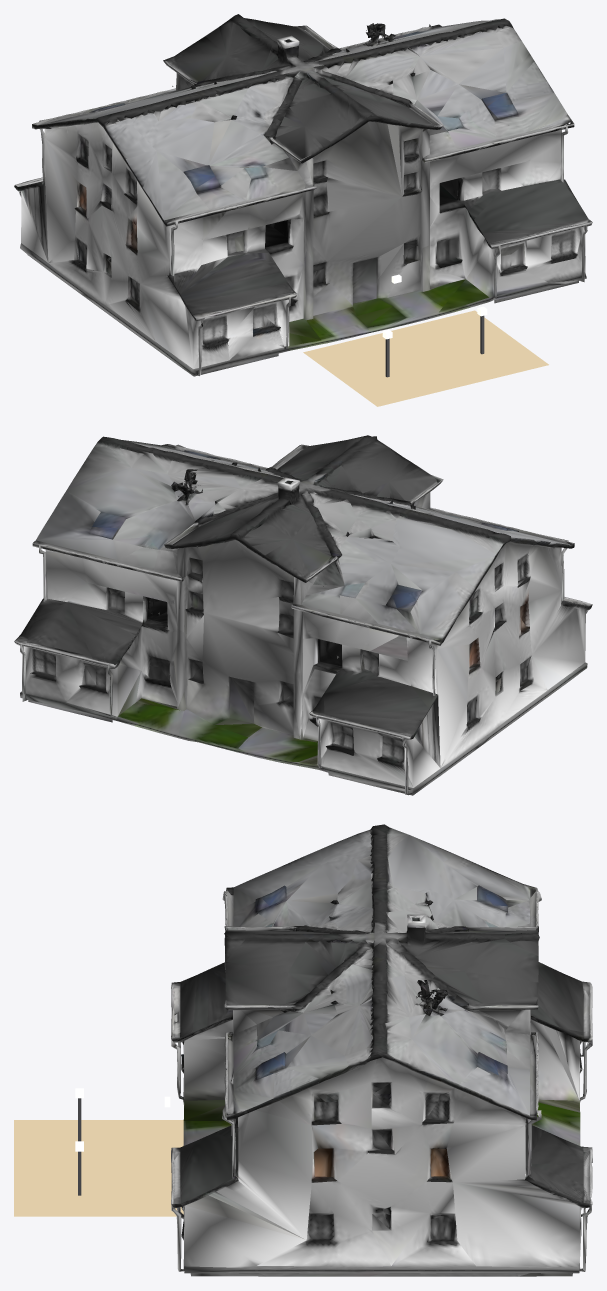
File: mh-modern1.glb
The picture shows the model from 3 angles, top to bottom: view 1: azimuth 30°, elevation 25°; view 2: azimuth 150°, elevation 25°; view 3: azimuth 270°, elevation 25°; orthographic projection. The views are drawn at different scales.
Visible parts, largest first — view 1: Mesh_0, lamp_pool; view 2: Mesh_0; view 3: Mesh_0, lamp_pool.
Part boxes in pixels (x1,y1,x2,y2): Mesh_0: (14, 14, 592, 376); lamp_pool: (303, 310, 548, 406); Mesh_0: (14, 435, 592, 795); Mesh_0: (171, 824, 592, 1276); lamp_pool: (14, 1120, 183, 1216).
Size of the model in its own units: 1.91 by 0.9716 by 2.04.
Materials: 4 (1 with a texture image).
